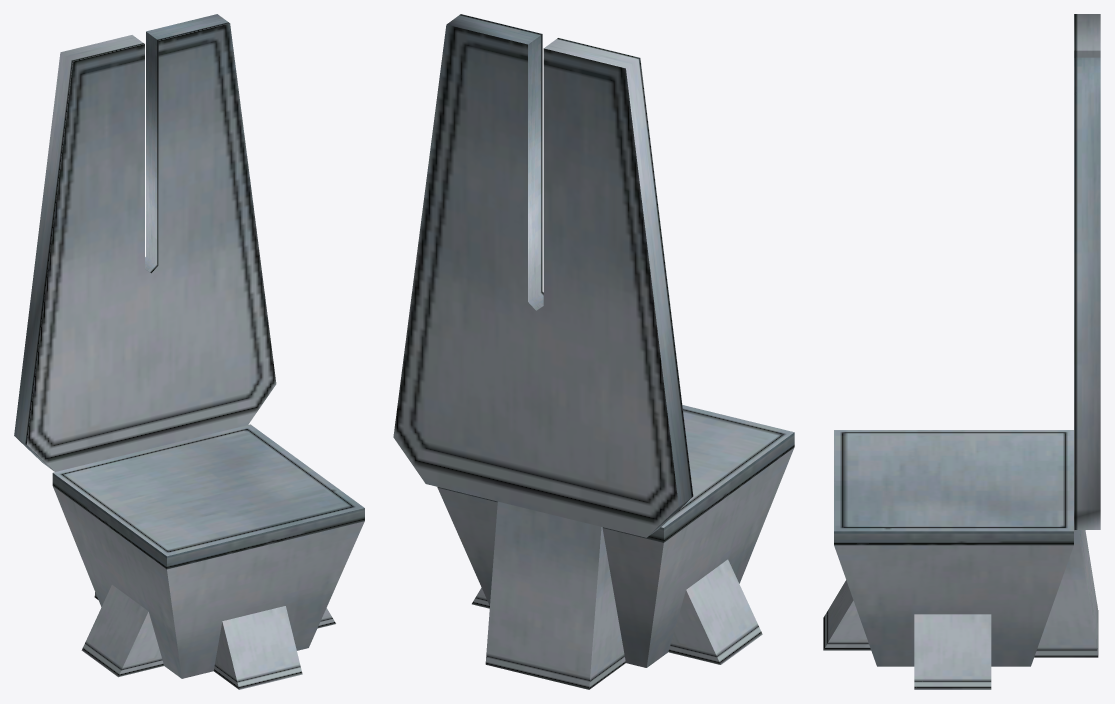
The model's file is frn_all_tech_chair_s01_l0.fbx.
The picture shows the model from 3 angles, left to right: view 1: azimuth 30°, elevation 25°; view 2: azimuth 150°, elevation 25°; view 3: azimuth 270°, elevation 25°; orthographic projection. The views are drawn at different scales.
Visible parts, largest first — view 1: mesh_node; view 2: mesh_node; view 3: mesh_node.
Part boxes in pixels (<box>): mesh_node: <box>14,14,364,689</box>; mesh_node: <box>393,14,794,689</box>; mesh_node: <box>823,14,1100,689</box>.
Bounding box in the file's own units: 0.7175 × 1.52 × 0.6577.
